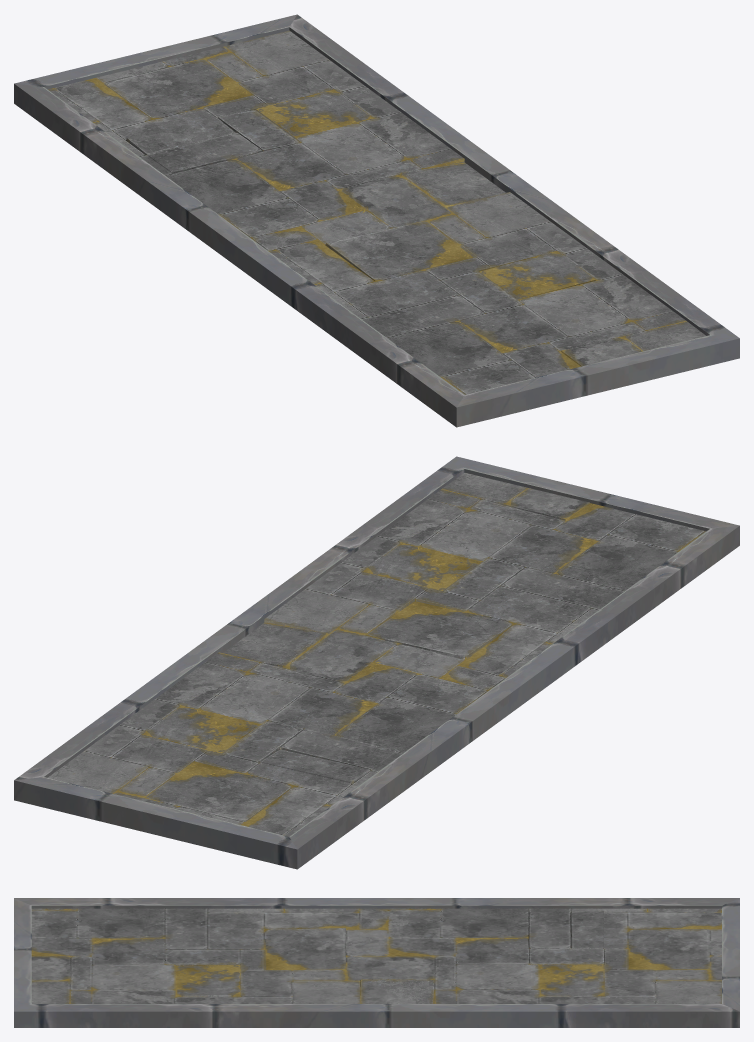
The model's file is SM_Alt_Flo_04AM.fbx.
3 views of the same model, one above another, from view 1: azimuth 30°, elevation 25°; view 2: azimuth 150°, elevation 25°; view 3: azimuth 270°, elevation 25° (orthographic). The views are drawn at different scales.
Visible parts, largest first — view 1: SM_Alt_Flo_04AM.mo; view 2: SM_Alt_Flo_04AM.mo; view 3: SM_Alt_Flo_04AM.mo.
Part boxes in pixels (<box>): SM_Alt_Flo_04AM.mo: <box>14,14,739,427</box>; SM_Alt_Flo_04AM.mo: <box>14,456,739,869</box>; SM_Alt_Flo_04AM.mo: <box>14,898,739,1027</box>.
Bounding box in the file's own units: 5.04 × 0.3398 × 13.63.
